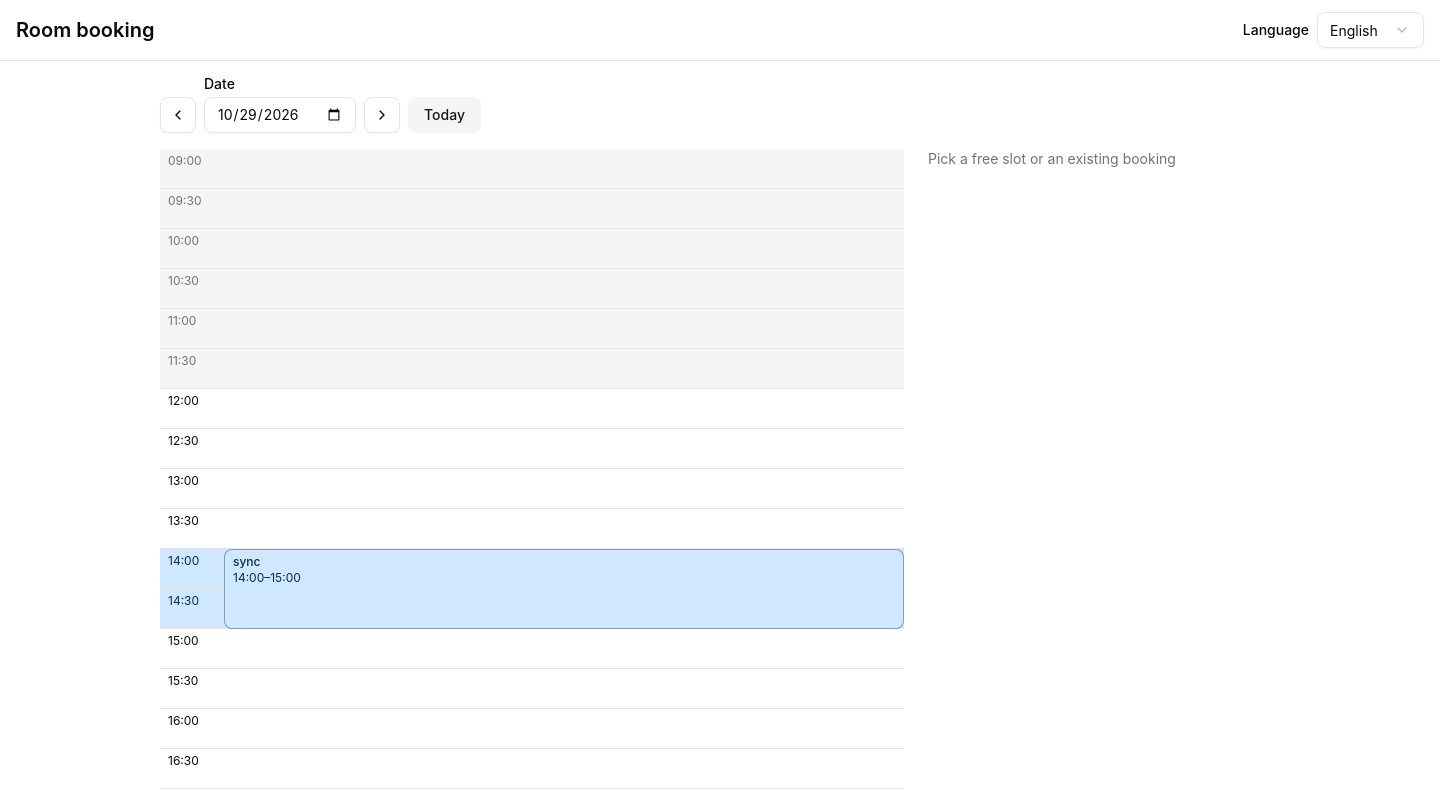
Test: BookingScreen › editing a booking › opens the form with the values of the clicked booking
This screenshot has width=1440, height=790.
Click the button with aria-label "sync, 14:00–15:00" at (267, 578), box x1=224 y1=549 x2=904 y2=629
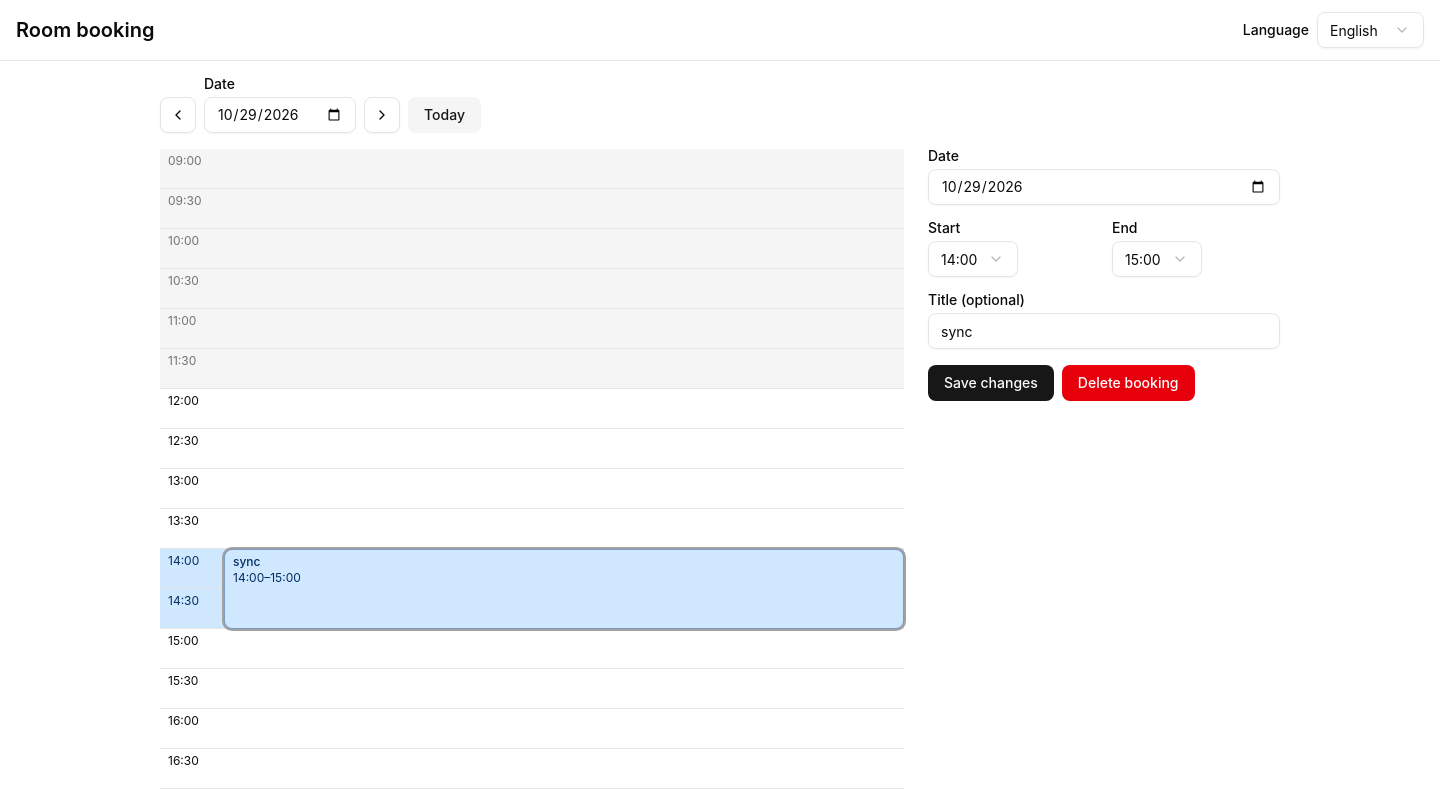
Expected: the field labelled "Title (optional)" holds "sync", x1=928 y1=313 x2=1280 y2=349
Expected: the dropdown labelled "Start" shows "14:00", x1=928 y1=241 x2=1018 y2=277
Expected: the dropdown labelled "End" shows "15:00", x1=1112 y1=241 x2=1202 y2=277
